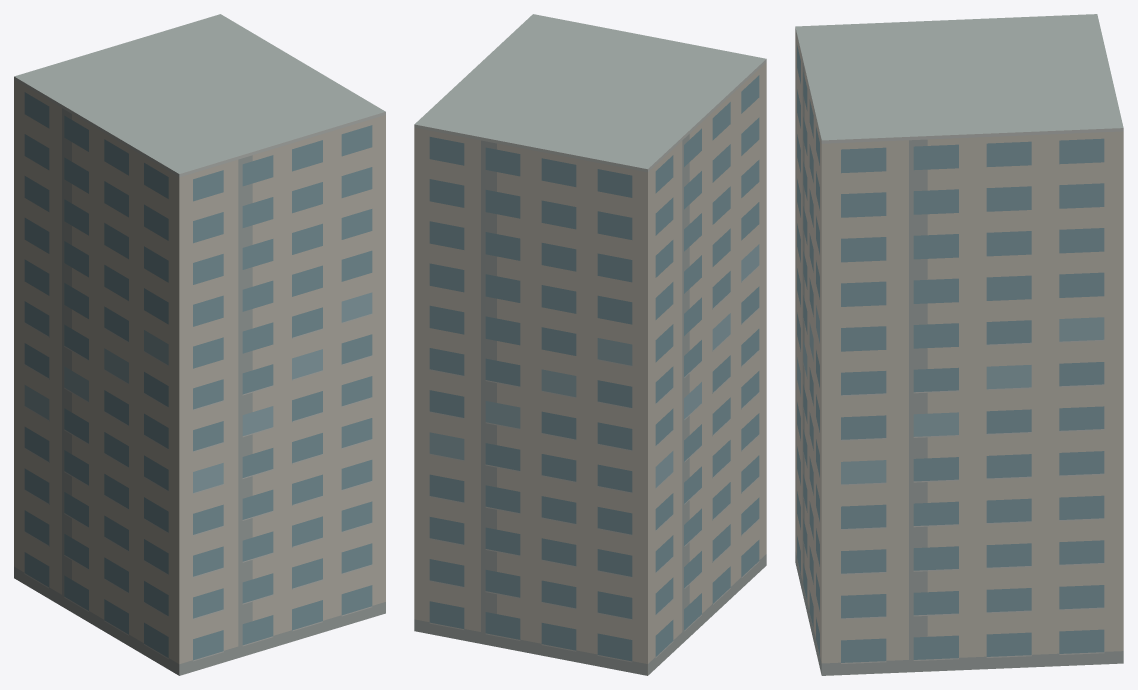
File: residential-ce781b53-ee79-4fd3-8e30-deca8bd0de74.glb
3 views of the same model, side by side, from view 1: azimuth 30°, elevation 25°; view 2: azimuth 150°, elevation 25°; view 3: azimuth 270°, elevation 25° (orthographic). The views are drawn at different scales.
Visible parts, largest first — view 1: residential-ce781b53-ee79-4fd3-8e30-deca8bd0de74.tmp; view 2: residential-ce781b53-ee79-4fd3-8e30-deca8bd0de74.tmp; view 3: residential-ce781b53-ee79-4fd3-8e30-deca8bd0de74.tmp.
Boxes of the visible parts, x1,y1,x2,y2 form: residential-ce781b53-ee79-4fd3-8e30-deca8bd0de74.tmp: (14, 14, 385, 675); residential-ce781b53-ee79-4fd3-8e30-deca8bd0de74.tmp: (414, 14, 766, 675); residential-ce781b53-ee79-4fd3-8e30-deca8bd0de74.tmp: (795, 14, 1123, 675).
Bounding box in the file's own units: 19.25 × 38 × 21.13.
